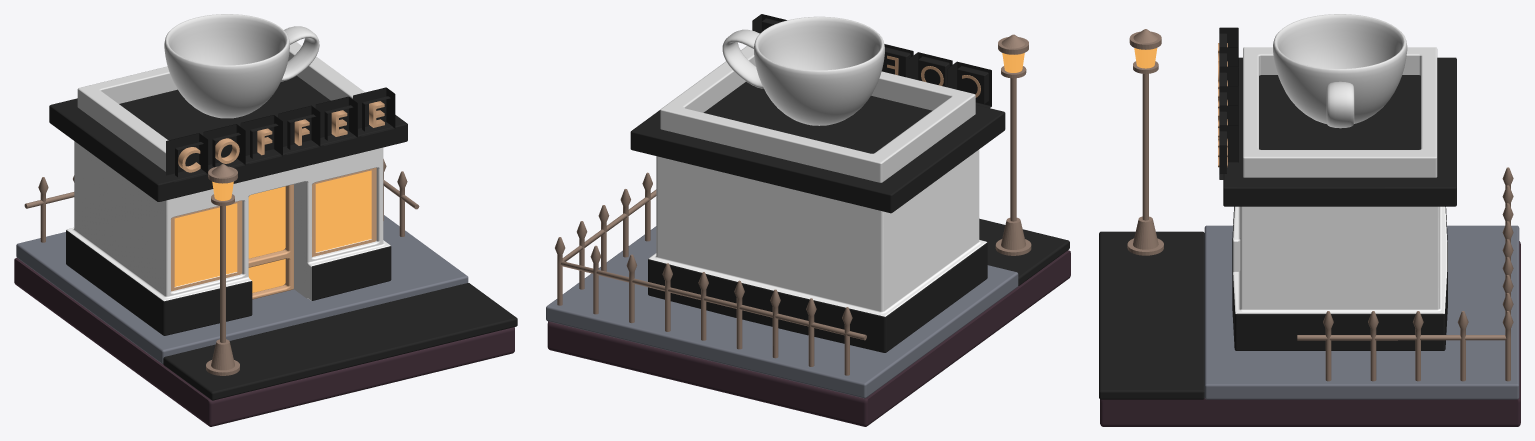
Rendered from shop.glb.
3 renders of one model, left to right at view 1: azimuth 30°, elevation 25°; view 2: azimuth 150°, elevation 25°; view 3: azimuth 270°, elevation 25°, orthographic. The views are drawn at different scales.
Visible parts, largest first — view 1: Plane.004, Plane.001, Plane.002, Plane.005, Plane, Circle, Plane.006, Circle.002, Plane.007, Plane.008, Plane.003, Plane.012 (+7 smaller); view 2: Plane.004, Plane.002, Plane.005, Plane, Plane.006, Circle, Plane.010, Circle.002, Plane.001, Plane.009, Plane.003, Circle.001 (+2 smaller); view 3: Plane.004, Plane.002, Plane.005, Plane.001, Plane, Circle, Plane.006, Plane.010, Circle.002, Circle.001, Plane.009, Plane.015 (+5 smaller).
Part boxes in pixels (box(x1,y1,x2,y2)): Plane.004: box(66, 141, 391, 335); Plane.001: box(163, 283, 517, 400); Plane.002: box(16, 215, 468, 364); Plane.005: box(49, 75, 407, 201); Plane: box(14, 258, 514, 426); Circle: box(164, 14, 289, 118); Plane.006: box(77, 42, 364, 171); Circle.002: box(206, 164, 239, 375); Plane.007: box(171, 167, 376, 291); Plane.008: box(248, 184, 293, 299); Plane.003: box(166, 133, 208, 182); Plane.012: box(240, 115, 282, 163); Plane.004: box(648, 149, 987, 352); Plane.002: box(546, 226, 1018, 398); Plane.005: box(630, 81, 1005, 213); Plane: box(547, 250, 1070, 426); Plane.006: box(660, 46, 975, 182); Circle: box(754, 16, 884, 125); Plane.010: box(555, 172, 852, 375); Circle.002: box(995, 34, 1031, 255); Plane.001: box(979, 218, 1069, 285); Plane.009: box(560, 189, 866, 340); Plane.003: box(947, 61, 991, 107); Circle.001: box(722, 29, 763, 88); Plane.004: box(1232, 206, 1447, 350); Plane.002: box(1204, 225, 1519, 399); Plane.005: box(1223, 57, 1456, 206); Plane.001: box(1099, 231, 1204, 399); Plane: box(1100, 241, 1520, 426); Circle: box(1273, 14, 1407, 123); Plane.006: box(1243, 47, 1437, 177); Plane.010: box(1323, 167, 1513, 381); Circle.002: box(1127, 29, 1163, 255); Circle.001: box(1326, 81, 1354, 128); Plane.009: box(1297, 335, 1506, 340); Plane.015: box(1219, 125, 1238, 179).
Size of the model in its own units: 8.05 by 6.86 by 8.91.
